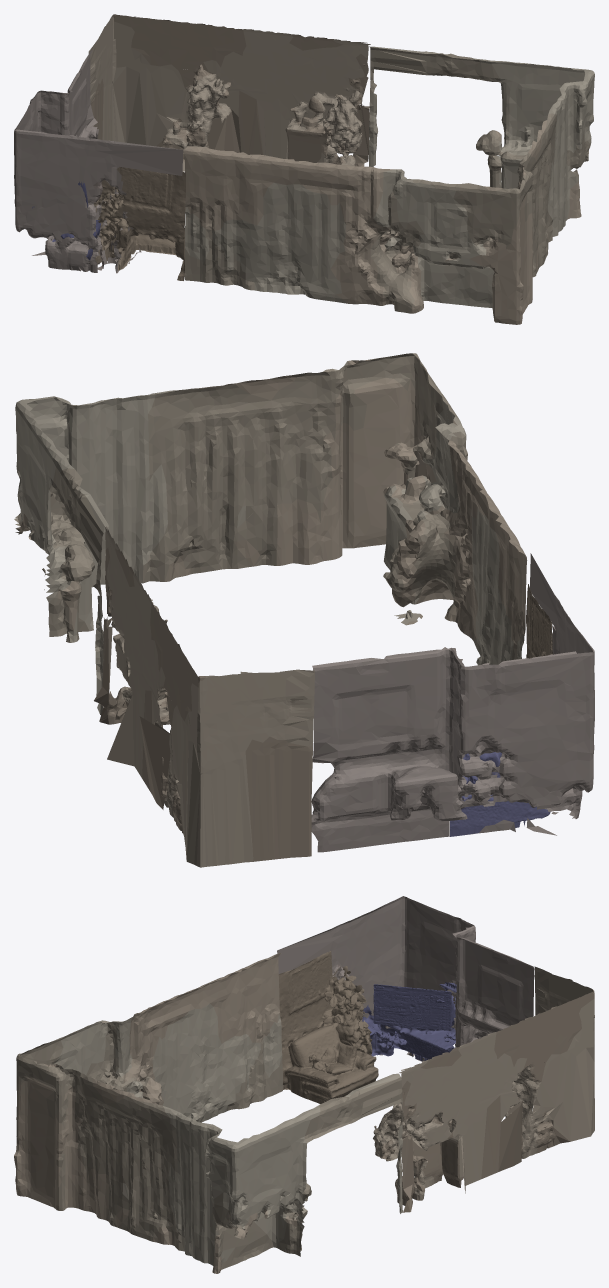
Rendered from SALON.fbx.
3 renders of one model, top to bottom at view 1: azimuth 30°, elevation 25°; view 2: azimuth 150°, elevation 25°; view 3: azimuth 270°, elevation 25°, orthographic. The views are drawn at different scales.
Visible parts, largest first — view 1: SALON; view 2: SALON; view 3: SALON.
Boxes of the visible parts, x1,y1,x2,y2 form: SALON: (14, 14, 594, 324); SALON: (14, 353, 594, 867); SALON: (14, 896, 594, 1273).
Bounding box in the file's own units: 1020 × 269 × 1000.
